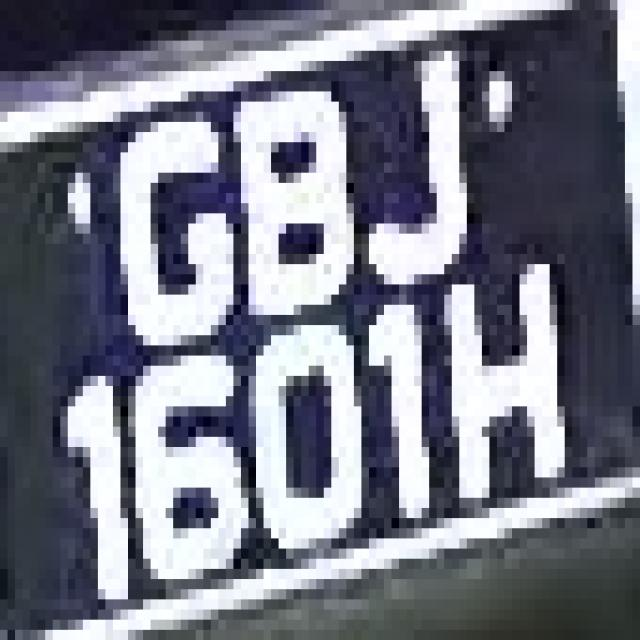0: (226, 335, 369, 579)
1: (346, 264, 437, 559), (52, 345, 120, 620)
6: (120, 345, 264, 579)
B: (218, 92, 376, 325)
G: (98, 102, 248, 366)
H: (429, 264, 587, 539)
J: (332, 30, 489, 305)
